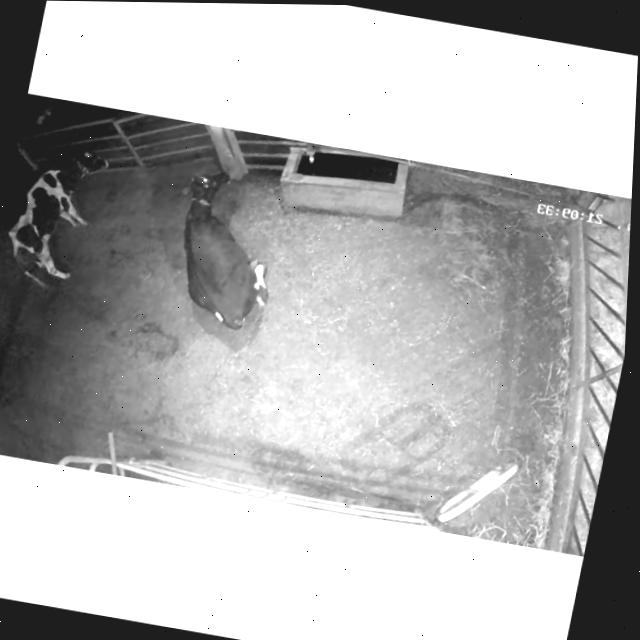stand: (9, 149, 109, 285)
